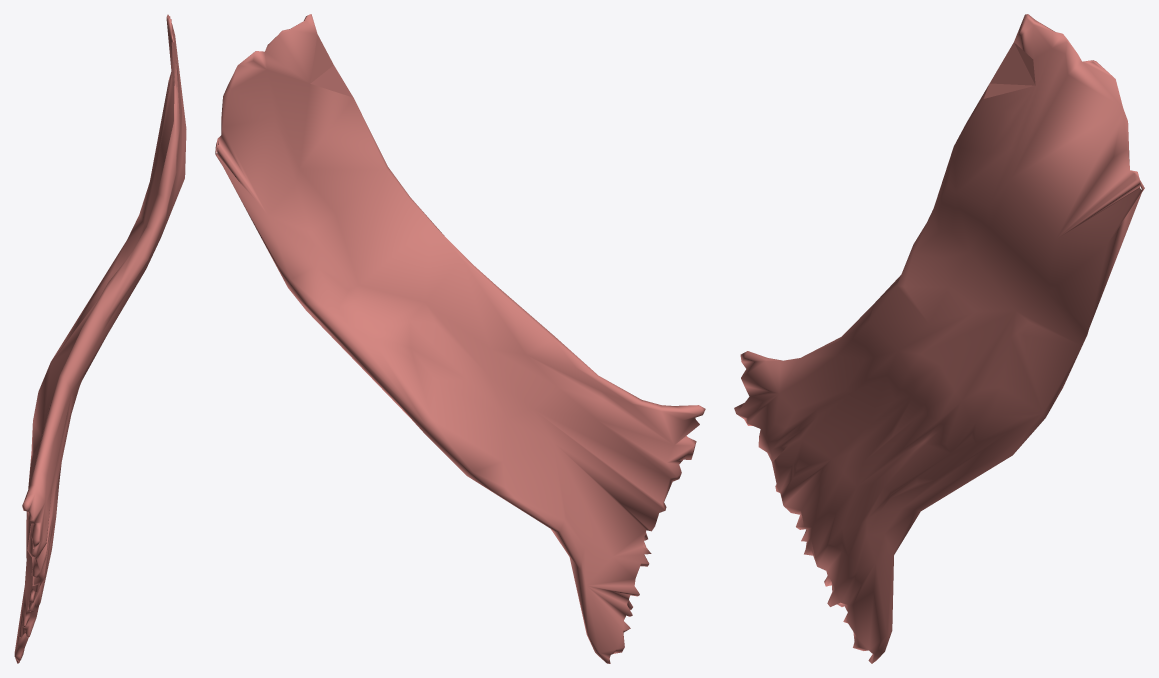
3 views of the same model, side by side, from view 1: azimuth 30°, elevation 25°; view 2: azimuth 150°, elevation 25°; view 3: azimuth 270°, elevation 25° (orthographic). The views are drawn at different scales.
Visible parts, largest first — view 1: ZA_b4b7394d987c0a57; view 2: ZA_b4b7394d987c0a57; view 3: ZA_b4b7394d987c0a57.
Boxes of the visible parts, x1,y1,x2,y2 form: ZA_b4b7394d987c0a57: (14,14,186,663); ZA_b4b7394d987c0a57: (215,14,705,663); ZA_b4b7394d987c0a57: (734,14,1144,663).
Bounding box in the file's own units: 0.0294 × 0.0545 × 0.0256.
